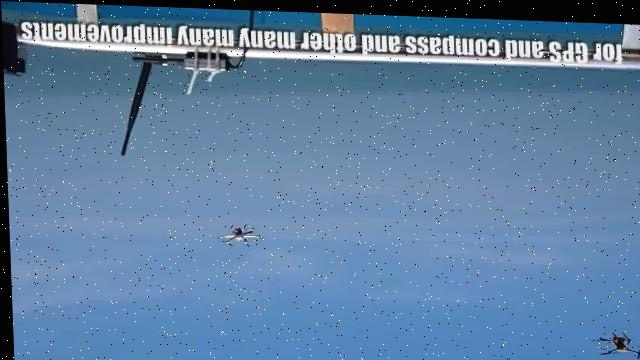drone: (592, 326, 640, 357)
